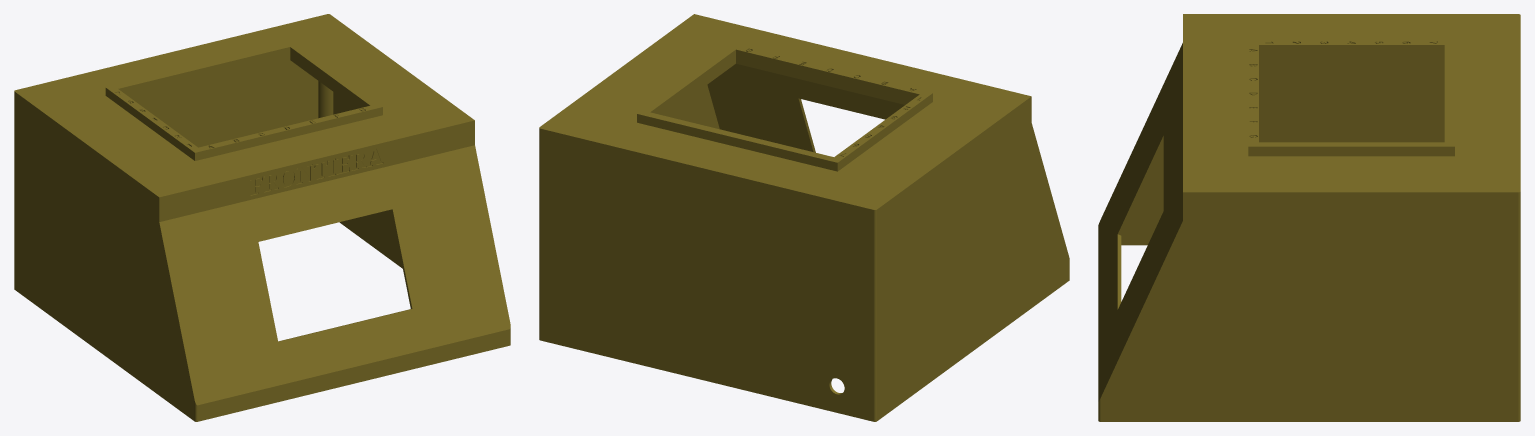
Rendered from Part_Studio_Frontiera.gltf.
3 views of the same model, side by side, from view 1: azimuth 30°, elevation 25°; view 2: azimuth 150°, elevation 25°; view 3: azimuth 270°, elevation 25° (orthographic). The views are drawn at different scales.
Parts seen in each view (by area): view 1: mesh0_mesh_65, mesh0_mesh_63, mesh0_mesh_69, mesh0_mesh_52, mesh0_mesh_664, mesh0_mesh_66, mesh0_mesh_79, mesh0_mesh_5, mesh0_mesh_34, mesh0_mesh_72, mesh0_mesh_6, mesh0_mesh_71 (+1 smaller); view 2: mesh0_mesh_59, mesh0_mesh_63, mesh0_mesh_69, mesh0_mesh_47, mesh0_mesh_79, mesh0_mesh_7, mesh0_mesh_70, mesh0_mesh_34, mesh0_mesh_6, mesh0_mesh_71, mesh0_mesh_60; view 3: mesh0_mesh_62, mesh0_mesh_69, mesh0_mesh_36, mesh0_mesh_65, mesh0_mesh_79, mesh0_mesh_4, mesh0_mesh_73, mesh0_mesh_61, mesh0_mesh_49.
Boxes of the visible parts, bbox=[...] form: mesh0_mesh_65: bbox=[159, 145, 510, 405]; mesh0_mesh_63: bbox=[14, 92, 194, 421]; mesh0_mesh_69: bbox=[14, 14, 474, 197]; mesh0_mesh_52: bbox=[132, 60, 318, 147]; mesh0_mesh_664: bbox=[159, 120, 474, 221]; mesh0_mesh_66: bbox=[197, 329, 509, 421]; mesh0_mesh_79: bbox=[106, 41, 382, 152]; mesh0_mesh_5: bbox=[118, 47, 290, 98]; mesh0_mesh_34: bbox=[333, 92, 402, 268]; mesh0_mesh_72: bbox=[195, 107, 382, 160]; mesh0_mesh_6: bbox=[290, 47, 369, 108]; mesh0_mesh_71: bbox=[105, 88, 194, 160]; mesh0_mesh_59: bbox=[540, 128, 873, 421]; mesh0_mesh_63: bbox=[877, 96, 1069, 420]; mesh0_mesh_69: bbox=[539, 14, 1031, 209]; mesh0_mesh_47: bbox=[707, 64, 904, 151]; mesh0_mesh_79: bbox=[637, 44, 932, 162]; mesh0_mesh_7: bbox=[736, 49, 919, 104]; mesh0_mesh_70: bbox=[637, 114, 837, 171]; mesh0_mesh_34: bbox=[665, 85, 719, 129]; mesh0_mesh_6: bbox=[650, 50, 735, 115]; mesh0_mesh_71: bbox=[837, 93, 932, 171]; mesh0_mesh_60: bbox=[873, 210, 876, 421]; mesh0_mesh_62: bbox=[1101, 192, 1517, 421]; mesh0_mesh_69: bbox=[1183, 14, 1520, 192]; mesh0_mesh_36: bbox=[1121, 60, 1444, 245]; mesh0_mesh_65: bbox=[1098, 43, 1182, 401]; mesh0_mesh_79: bbox=[1248, 40, 1454, 146]; mesh0_mesh_4: bbox=[1259, 45, 1444, 60]; mesh0_mesh_73: bbox=[1248, 146, 1454, 156]; mesh0_mesh_61: bbox=[1518, 192, 1520, 421]; mesh0_mesh_49: bbox=[1118, 136, 1163, 235].
Size of the model in its own units: 0.2 by 0.125 by 0.2.
